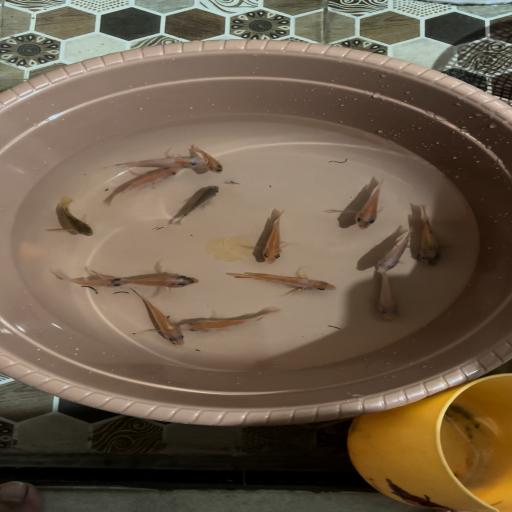nila: (122, 292, 197, 350), (228, 267, 346, 303), (180, 304, 288, 342), (34, 191, 108, 244), (340, 172, 404, 232), (159, 184, 233, 231), (408, 201, 454, 271), (101, 168, 183, 207), (80, 265, 206, 290), (251, 204, 298, 268), (364, 275, 414, 331), (361, 230, 418, 277), (38, 266, 126, 293), (185, 142, 240, 176), (106, 152, 207, 170)
